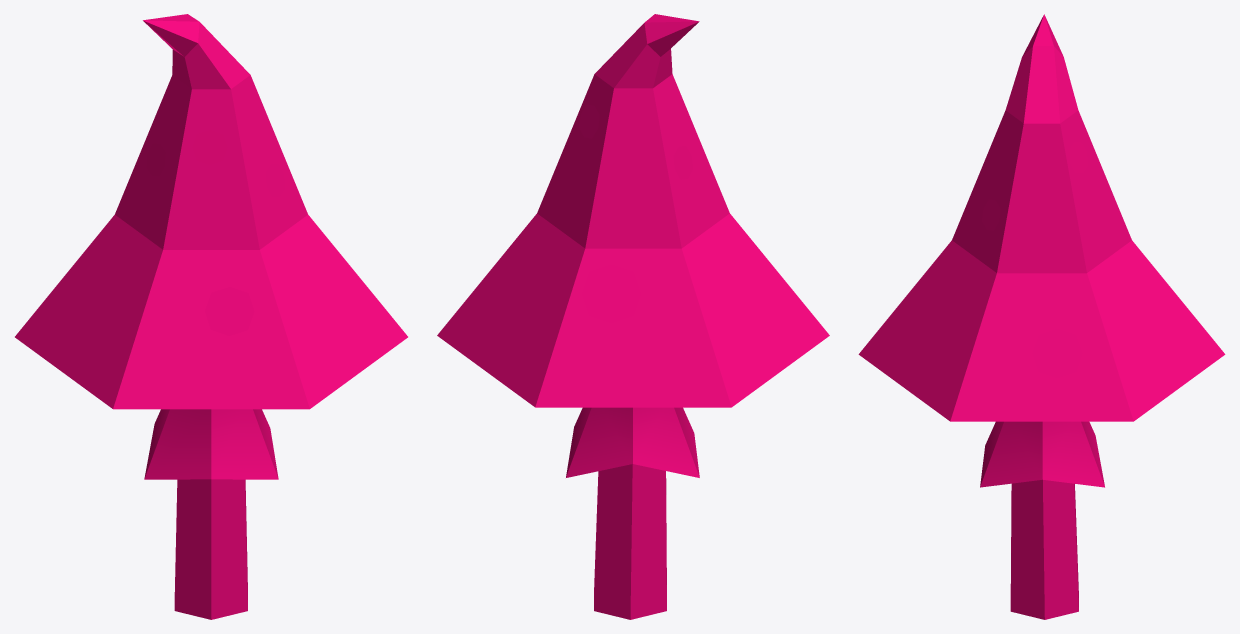
Rendered from SM_SS_Mushroom_2.fbx.
The picture shows the model from 3 angles, left to right: view 1: azimuth 30°, elevation 25°; view 2: azimuth 150°, elevation 25°; view 3: azimuth 270°, elevation 25°; orthographic projection. The views are drawn at different scales.
Visible parts, largest first — view 1: SM_SS_Mushroom_2; view 2: SM_SS_Mushroom_2; view 3: SM_SS_Mushroom_2.
Part boxes in pixels (box(x1,y1,x2,y2)): SM_SS_Mushroom_2: box(15, 14, 407, 619); SM_SS_Mushroom_2: box(437, 14, 829, 619); SM_SS_Mushroom_2: box(858, 14, 1225, 619).
Size of the model in its own units: 8.37 by 9.67 by 16.22.
